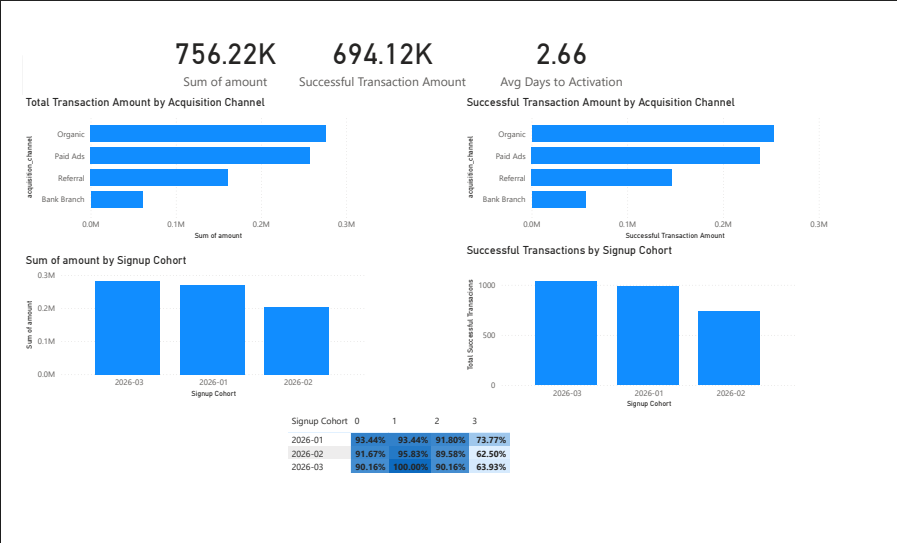

This screenshot's page, from the dashboard's own definition file:
{"tool":"powerbi","page":{"name":"Revenue & Cohort Analysis","canvas":[1280,720],"ordinal":1},"visuals":[{"type":"card","fields":{"Values":["Users.Avg Days to Activation"]},"box":[692.6,0,256,112],"z":0},{"type":"barChart","title":"Total Transaction Amount by Acquisition Channel","fields":{"Category":["Users.acquisition_channel"],"Y":["Sum(Transactions.amount)"]},"box":[0,112,512,224],"z":1000},{"type":"clusteredColumnChart","fields":{"Category":["Users.Signup Cohort"],"Y":["Sum(Transactions.amount)"]},"box":[0,352,528,224],"z":2000},{"type":"barChart","title":"Successful Transaction Amount by Acquisition Channel","fields":{"Category":["Users.acquisition_channel"],"Y":["Transactions.Successful Transaction Amount"]},"box":[672,112,560,224],"z":3000},{"type":"clusteredColumnChart","title":"Successful Transactions by Signup Cohort","fields":{"Category":["Users.Signup Cohort"],"Y":["Transactions.Total Successful Transacions"]},"box":[672,336,512,256],"z":4000},{"type":"card","fields":{"Values":["Sum(Transactions.amount)"]},"box":[212.6,0,192,112],"z":5000},{"type":"card","fields":{"Values":["Transactions.Successful Transaction Amount"]},"box":[404.6,0,288,112],"z":6000},{"type":"pivotTable","fields":{"Rows":["Users.Signup Cohort"],"Values":["Calendar.Retention Rate"],"Columns":["Transactions.Months Since Signup"]},"box":[400,592,352,112],"z":7000}]}

Visuals, with their boxes on the page's 1280x720 design canvas (x1, y1, x2, y2). These are canvas units, not pixel positions in the 897x543 screenshot, which may show the page scaled, cropped or inside an application window:
card - Users.Avg Days to Activation: {"left": 693, "top": 0, "right": 949, "bottom": 112}
"Total Transaction Amount by Acquisition Channel" barChart: {"left": 0, "top": 112, "right": 512, "bottom": 336}
clusteredColumnChart - Users.Signup Cohort x Sum(Transactions.amount): {"left": 0, "top": 352, "right": 528, "bottom": 576}
"Successful Transaction Amount by Acquisition Channel" barChart: {"left": 672, "top": 112, "right": 1232, "bottom": 336}
"Successful Transactions by Signup Cohort" clusteredColumnChart: {"left": 672, "top": 336, "right": 1184, "bottom": 592}
card - Sum(Transactions.amount): {"left": 213, "top": 0, "right": 405, "bottom": 112}
card - Transactions.Successful Transaction Amount: {"left": 405, "top": 0, "right": 693, "bottom": 112}
pivotTable - Users.Signup Cohort x Calendar.Retention Rate: {"left": 400, "top": 592, "right": 752, "bottom": 704}
